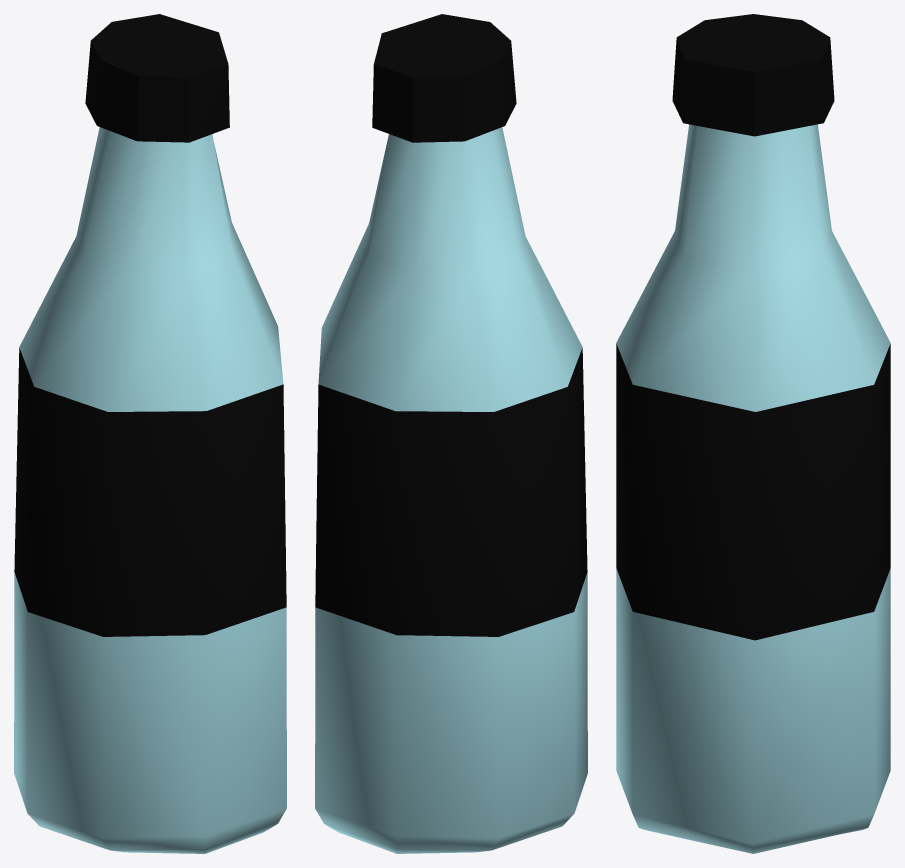
File: Bottle.fbx
3 views of the same model, side by side, from view 1: azimuth 30°, elevation 25°; view 2: azimuth 150°, elevation 25°; view 3: azimuth 270°, elevation 25° (orthographic).
Visible parts, largest first — view 1: Wine001; view 2: Wine001; view 3: Wine001.
Boxes of the visible parts, x1,y1,x2,y2 form: Wine001: (14,14,286,853); Wine001: (315,14,587,853); Wine001: (616,14,890,853).
Bounding box in the file's own units: 18.83 × 52.8 × 17.21.
